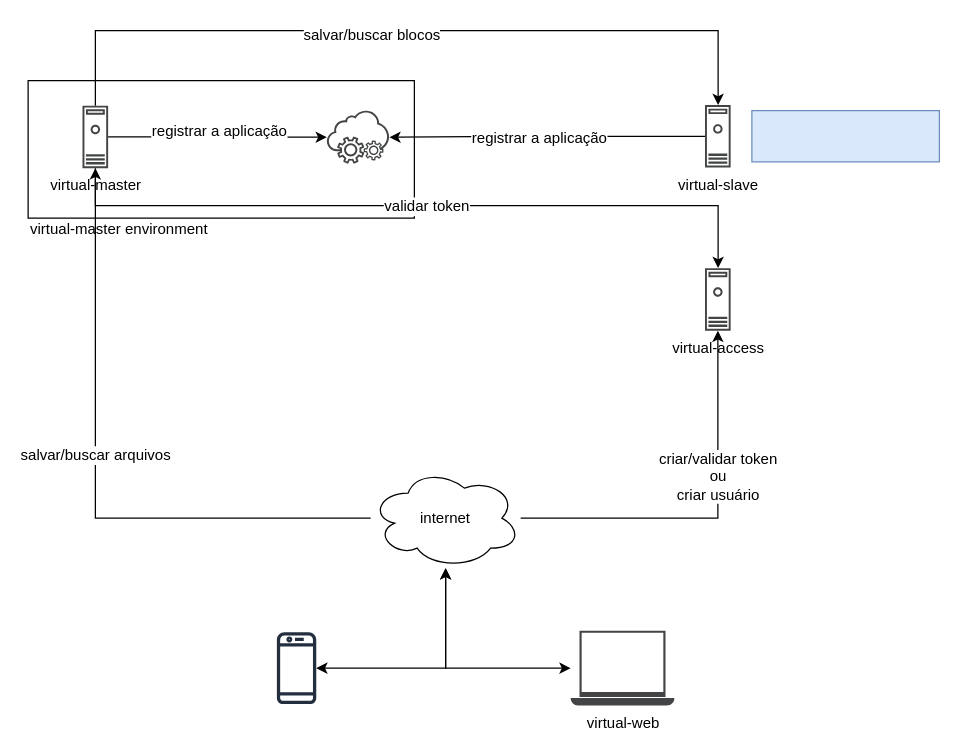
The diagram is 963 pixels wide and 754 high, and some of its shapes have lost their labels. The shapes that lost their labels are listed below. From the top down, each one's centre as x and y in pixels, then its label:
At (357,136): "eureka".
At (845,135): "pode haver uma ou mais instâncias do virtual-slave".
At (296,667): "virtual-mobile".
